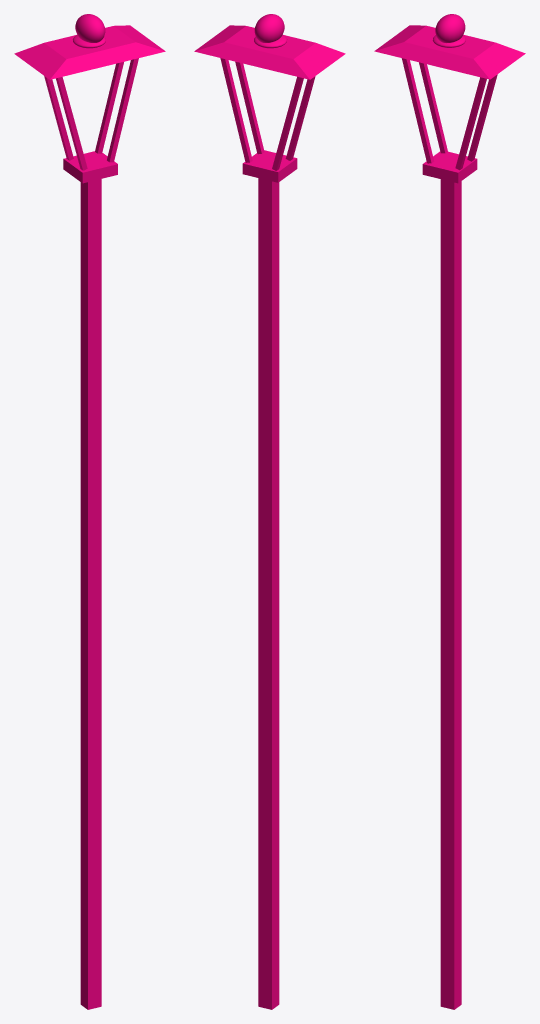
File: TallLampPostTexture.obj
3 views of the same model, side by side, from view 1: azimuth 30°, elevation 25°; view 2: azimuth 150°, elevation 25°; view 3: azimuth 330°, elevation 25° (orthographic).
Visible parts, largest first — view 1: Tall_Lamp_Post:pCube1 Tall_Lamp, Tall_Lamp Tall_Lamp_Post:pCube2, Tall_Lamp Tall_Lamp_Post:pCube8, Tall_Lamp Tall_Lamp_Post:pCube5, Tall_Lamp Tall_Lamp_Post:pCube7, Tall_Lamp Tall_Lamp_Post:pCube4, Tall_Lamp Tall_Lamp_Post:pSphere1, Tall_Lamp Tall_Lamp_Post:pCube3; view 2: Tall_Lamp_Post:pCube1 Tall_Lamp, Tall_Lamp Tall_Lamp_Post:pCube2, Tall_Lamp Tall_Lamp_Post:pCube8, Tall_Lamp Tall_Lamp_Post:pCube7, Tall_Lamp Tall_Lamp_Post:pCube5, Tall_Lamp Tall_Lamp_Post:pCube3, Tall_Lamp Tall_Lamp_Post:pSphere1, Tall_Lamp Tall_Lamp_Post:pCube4; view 3: Tall_Lamp_Post:pCube1 Tall_Lamp, Tall_Lamp Tall_Lamp_Post:pCube2, Tall_Lamp Tall_Lamp_Post:pCube8, Tall_Lamp Tall_Lamp_Post:pCube4, Tall_Lamp Tall_Lamp_Post:pCube3, Tall_Lamp Tall_Lamp_Post:pCube5, Tall_Lamp Tall_Lamp_Post:pSphere1, Tall_Lamp Tall_Lamp_Post:pCube7.
Boxes of the visible parts, box(x1,y1,x2,y2) form: Tall_Lamp_Post:pCube1 Tall_Lamp: box(80, 179, 101, 1009); Tall_Lamp Tall_Lamp_Post:pCube2: box(14, 25, 165, 79); Tall_Lamp Tall_Lamp_Post:pCube8: box(63, 151, 117, 183); Tall_Lamp Tall_Lamp_Post:pCube5: box(107, 58, 138, 162); Tall_Lamp Tall_Lamp_Post:pCube7: box(95, 62, 123, 153); Tall_Lamp Tall_Lamp_Post:pCube4: box(56, 77, 87, 170); Tall_Lamp Tall_Lamp_Post:pSphere1: box(75, 14, 105, 42); Tall_Lamp Tall_Lamp_Post:pCube3: box(44, 76, 73, 160); Tall_Lamp_Post:pCube1 Tall_Lamp: box(258, 178, 279, 1009); Tall_Lamp Tall_Lamp_Post:pCube2: box(194, 25, 345, 79); Tall_Lamp Tall_Lamp_Post:pCube8: box(242, 150, 297, 182); Tall_Lamp Tall_Lamp_Post:pCube7: box(220, 58, 252, 162); Tall_Lamp Tall_Lamp_Post:pCube5: box(235, 61, 264, 154); Tall_Lamp Tall_Lamp_Post:pCube3: box(272, 76, 303, 170); Tall_Lamp Tall_Lamp_Post:pSphere1: box(254, 14, 284, 42); Tall_Lamp Tall_Lamp_Post:pCube4: box(285, 76, 315, 160); Tall_Lamp_Post:pCube1 Tall_Lamp: box(440, 179, 461, 1009); Tall_Lamp Tall_Lamp_Post:pCube2: box(374, 25, 525, 79); Tall_Lamp Tall_Lamp_Post:pCube8: box(422, 151, 477, 183); Tall_Lamp Tall_Lamp_Post:pCube4: box(401, 58, 434, 163); Tall_Lamp Tall_Lamp_Post:pCube3: box(419, 62, 447, 153); Tall_Lamp Tall_Lamp_Post:pCube5: box(455, 77, 486, 170); Tall_Lamp Tall_Lamp_Post:pSphere1: box(435, 14, 465, 42); Tall_Lamp Tall_Lamp_Post:pCube7: box(467, 74, 497, 161).
Bounding box in the file's own units: 0.75 × 6.11 × 0.4.
